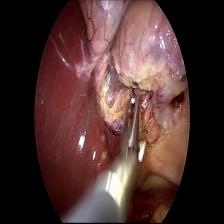Grasper: (120, 92, 150, 178)
